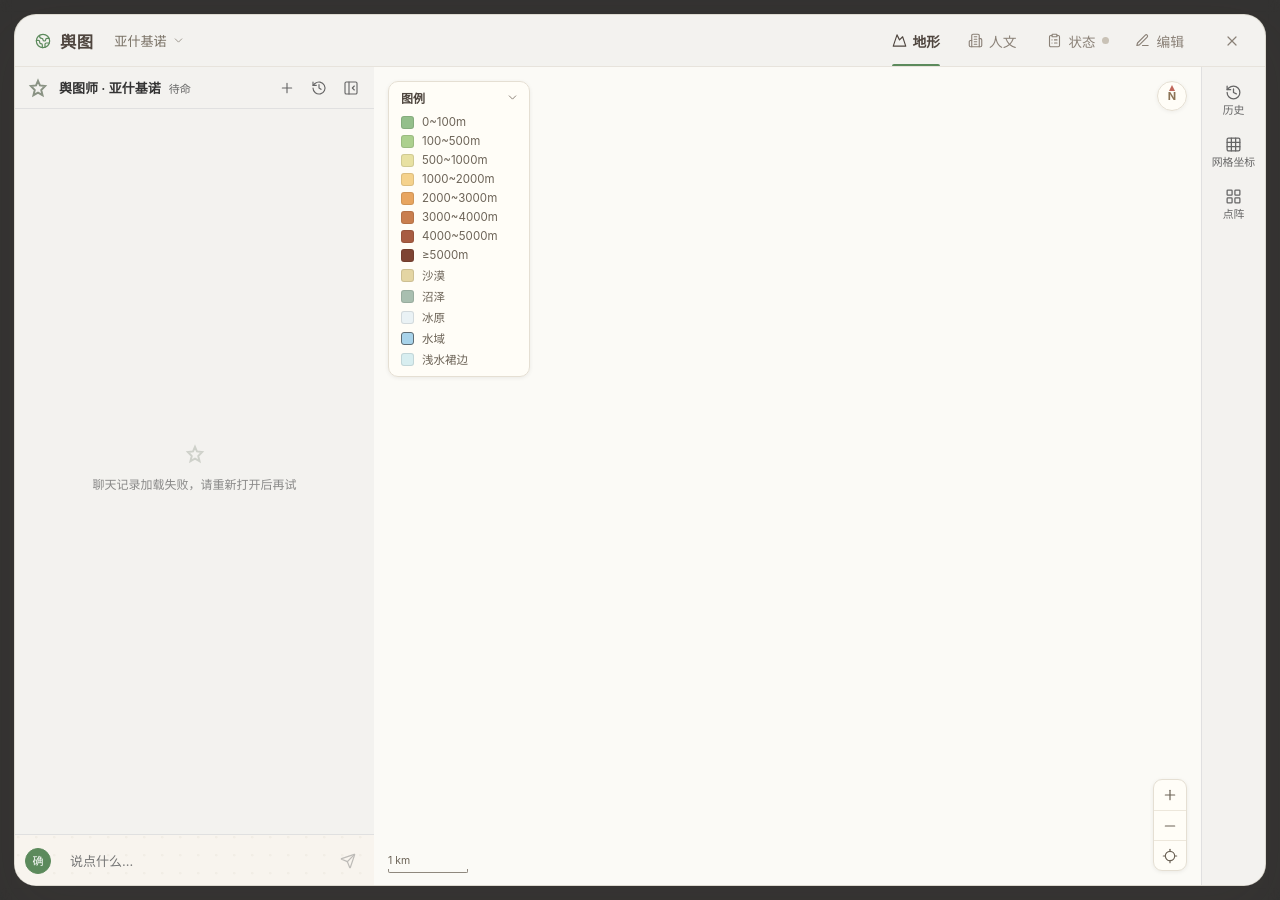
Test: MapViewerDialog › 历史入口位于右侧工具栏，默认不展开；点击后渲染 run 分组列表
点展开按钮：列表照常渲染，功能不变
Click the button with class "map-viewer__history-toggle" at (1234, 100), box 1207,75 -> 1260,125
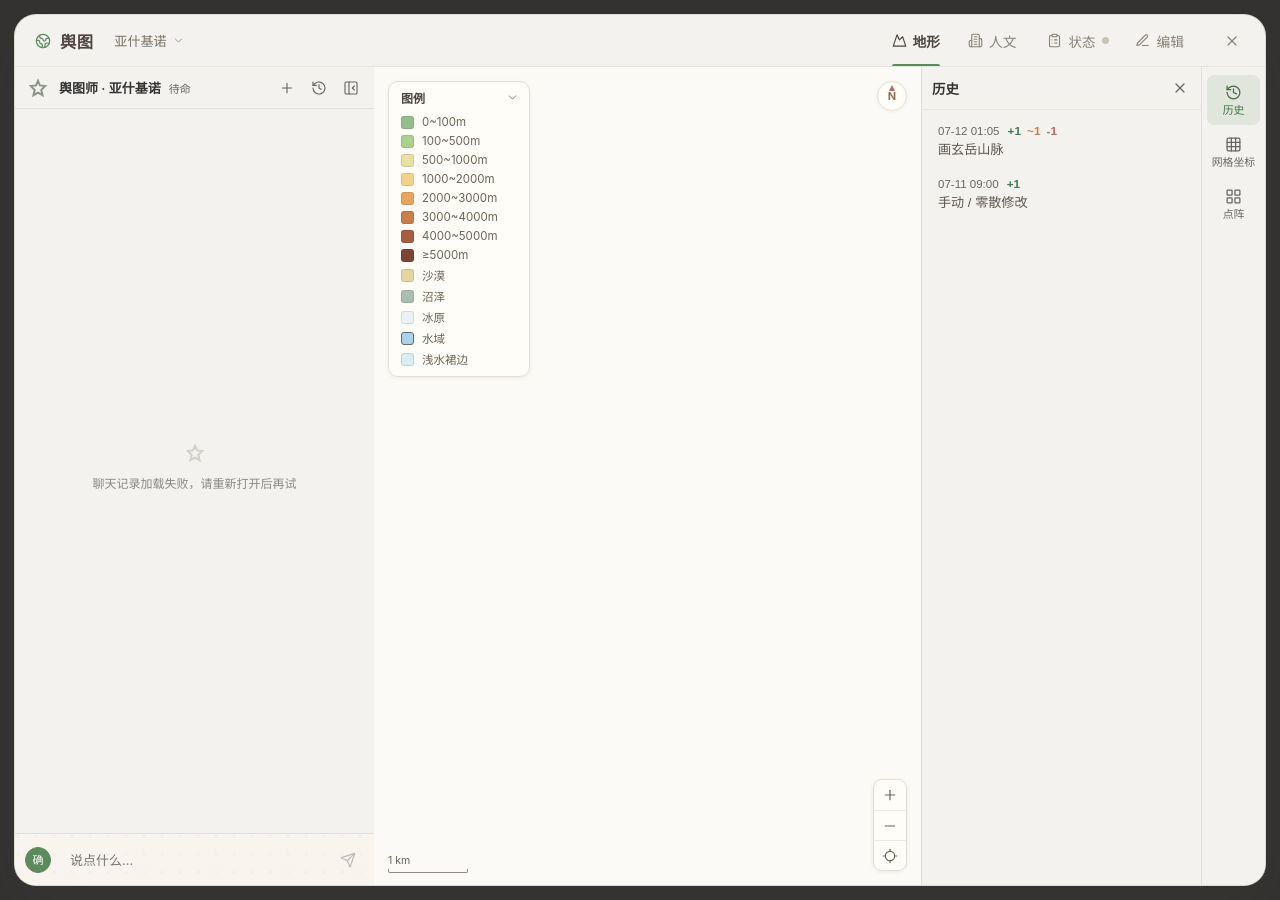
Expected: the element with class "map-viewer__history" is shown, 921,67 -> 1201,885
Expected: the number of buttons with class "map-viewer__history-item" is 2, 928,116 -> 1195,167; 928,169 -> 1195,221
Expected: the button with class "map-viewer__history-item" shows "画玄岳山脉", 928,116 -> 1195,167
